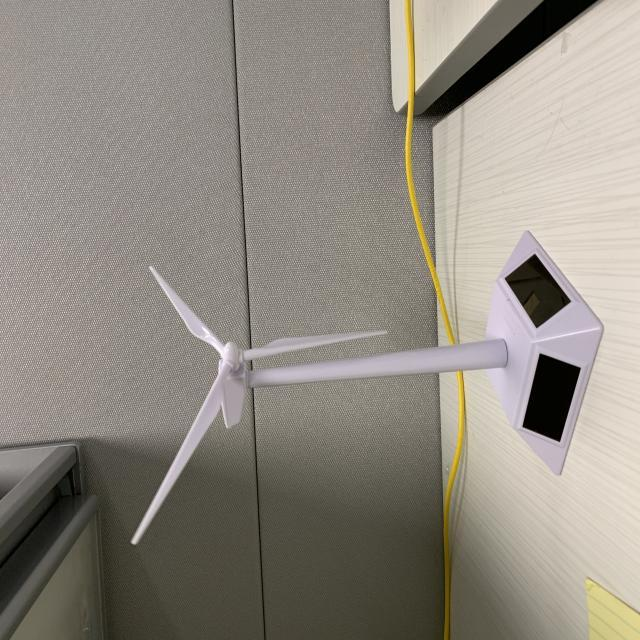solid-blade: (131, 361, 222, 544), (149, 266, 224, 354), (244, 331, 386, 361)
